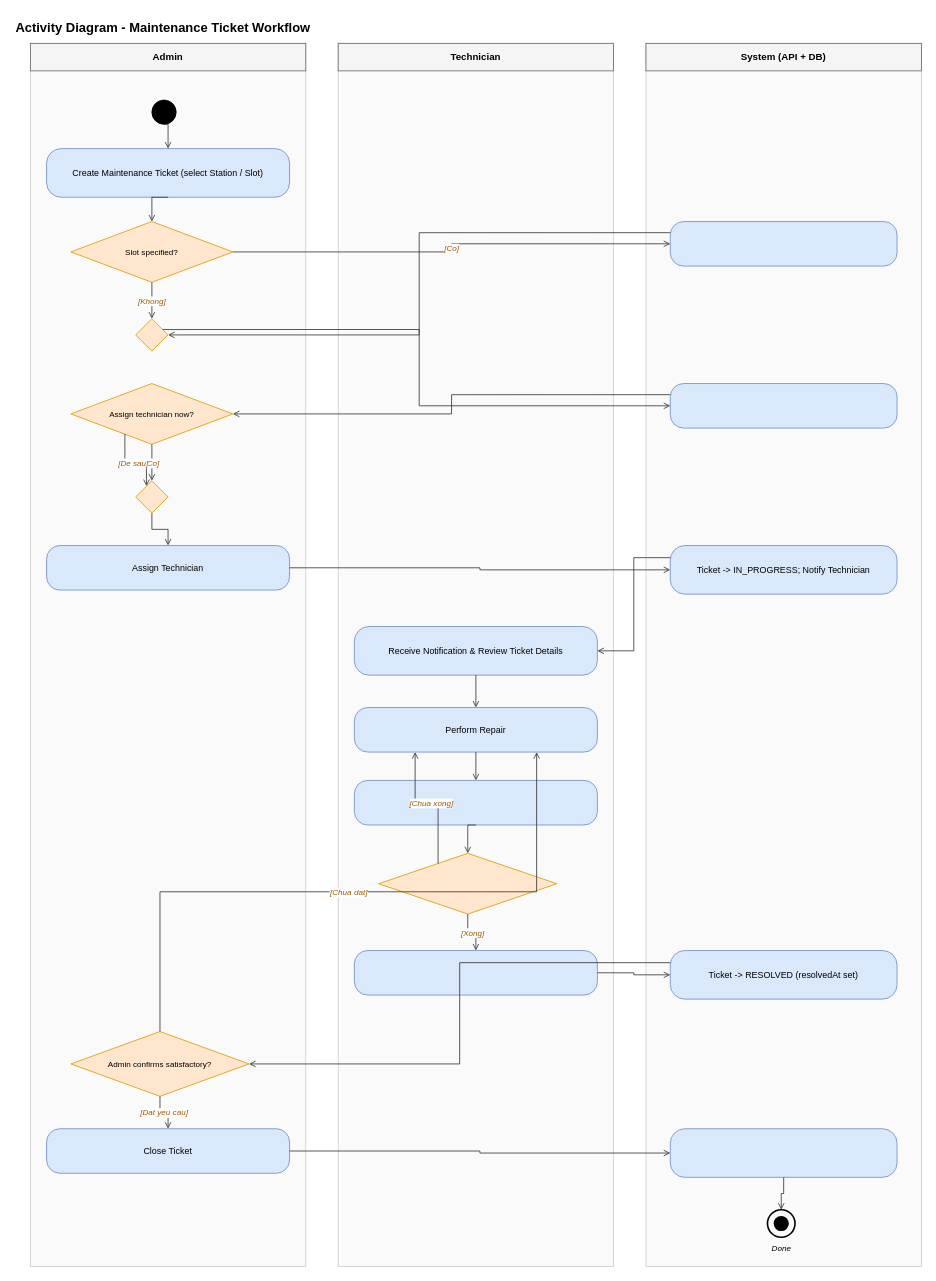
The diagram is 936 pixels wide and 1281 high, and some of its shapes have lost their labels. The centre of each missing label's shape, as x and y in pixels:
Lock Slot -> MAINTENANCE: the point at 783,243
Mark Resolved: the point at 475,972
Repair complete?: the point at 467,883
Ticket -> CLOSED; Slot -> AVAILABLE: the point at 783,1152
Ticket Created (status = OPEN): the point at 783,405
Update Ticket Progress: the point at 475,802
